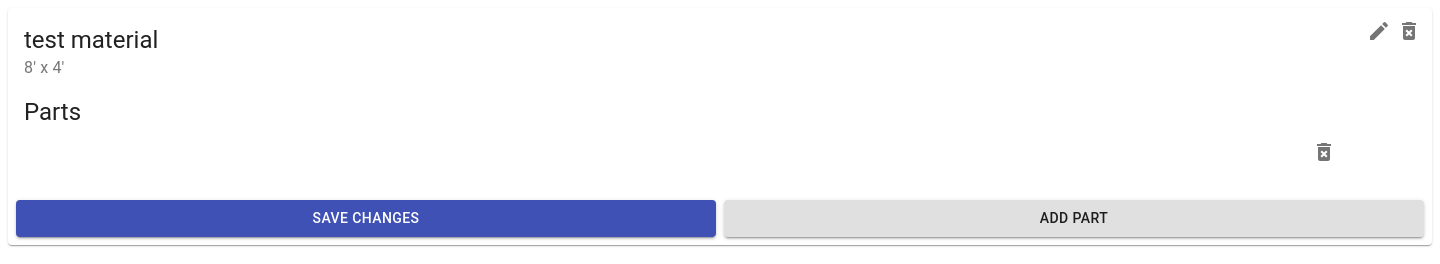
Test: should be able to remove a part
Click the button with test id "remove-part" at [1324, 152], box [1300,128,1348,176]
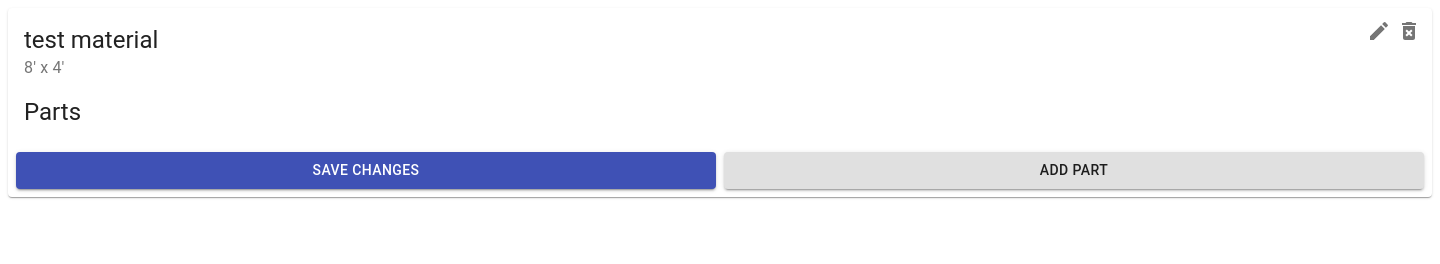
Expected: no elements with test id "part-row" are shown
